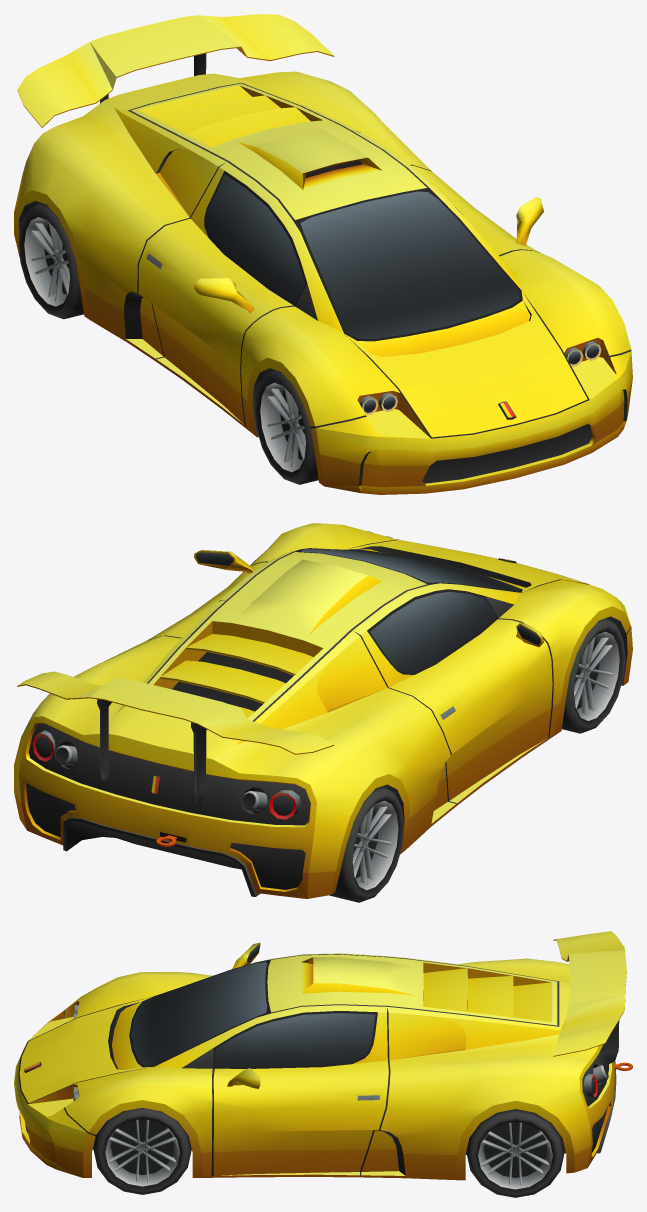
File: VHC0110013.FBX
3 views of the same model, one above another, from view 1: azimuth 30°, elevation 25°; view 2: azimuth 150°, elevation 25°; view 3: azimuth 270°, elevation 25° (orthographic). The views are drawn at different scales.
Visible parts, largest first — view 1: smVHC0110013; view 2: smVHC0110013; view 3: smVHC0110013.
Part boxes in pixels (x1,y1,x2,y2): smVHC0110013: (14,14,632,494); smVHC0110013: (14,523,632,902); smVHC0110013: (14,931,632,1197).
Bounding box in the file's own units: 1.8 × 1 × 3.39.
1 material, 1 textured.
